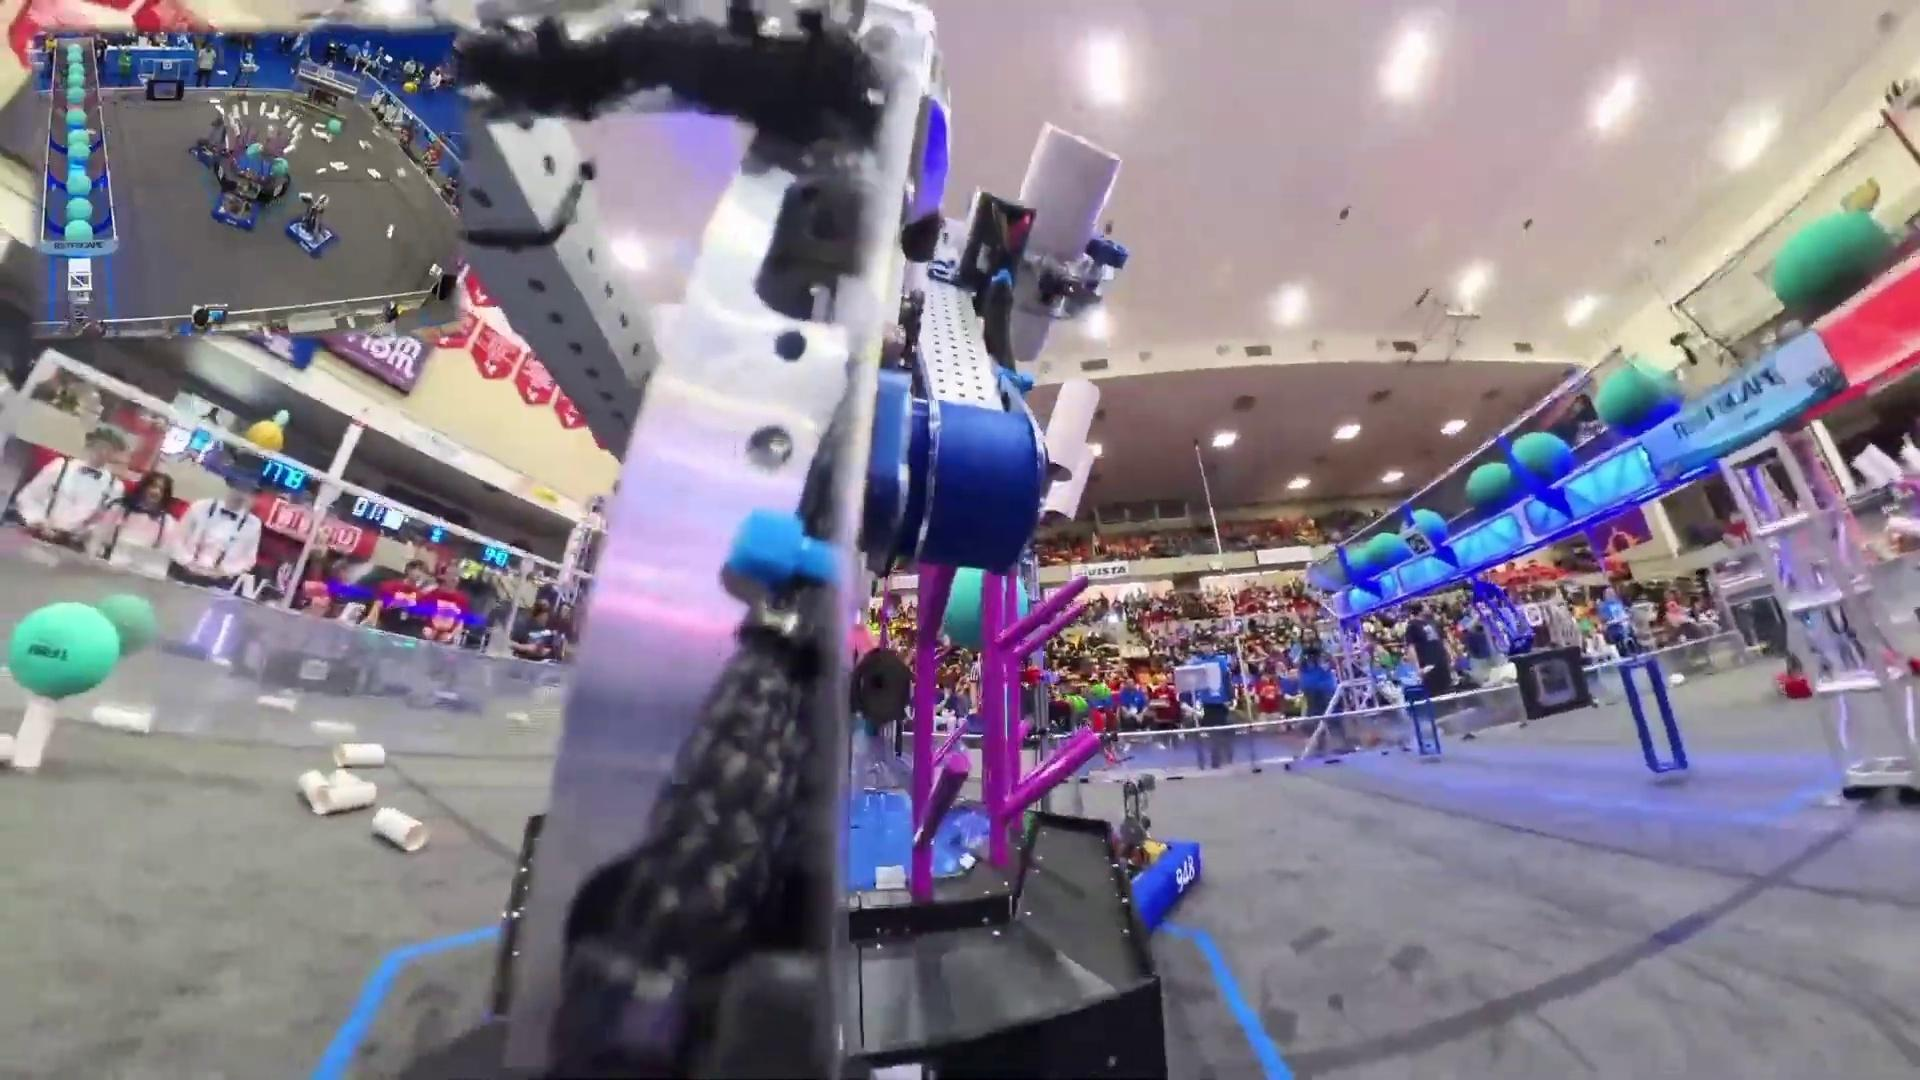robot: (1102, 774, 1207, 932), (1782, 642, 1920, 699), (285, 193, 336, 253), (190, 95, 231, 167), (211, 183, 260, 236)
